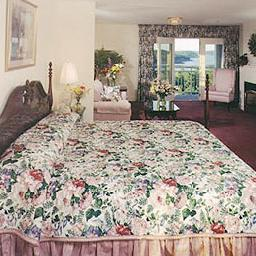Cama: (16, 113, 255, 252)
